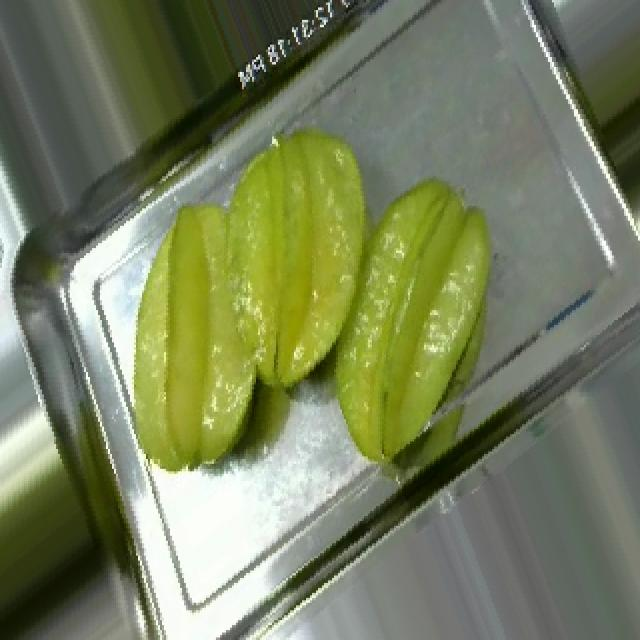fruit: (74, 84, 532, 501)
